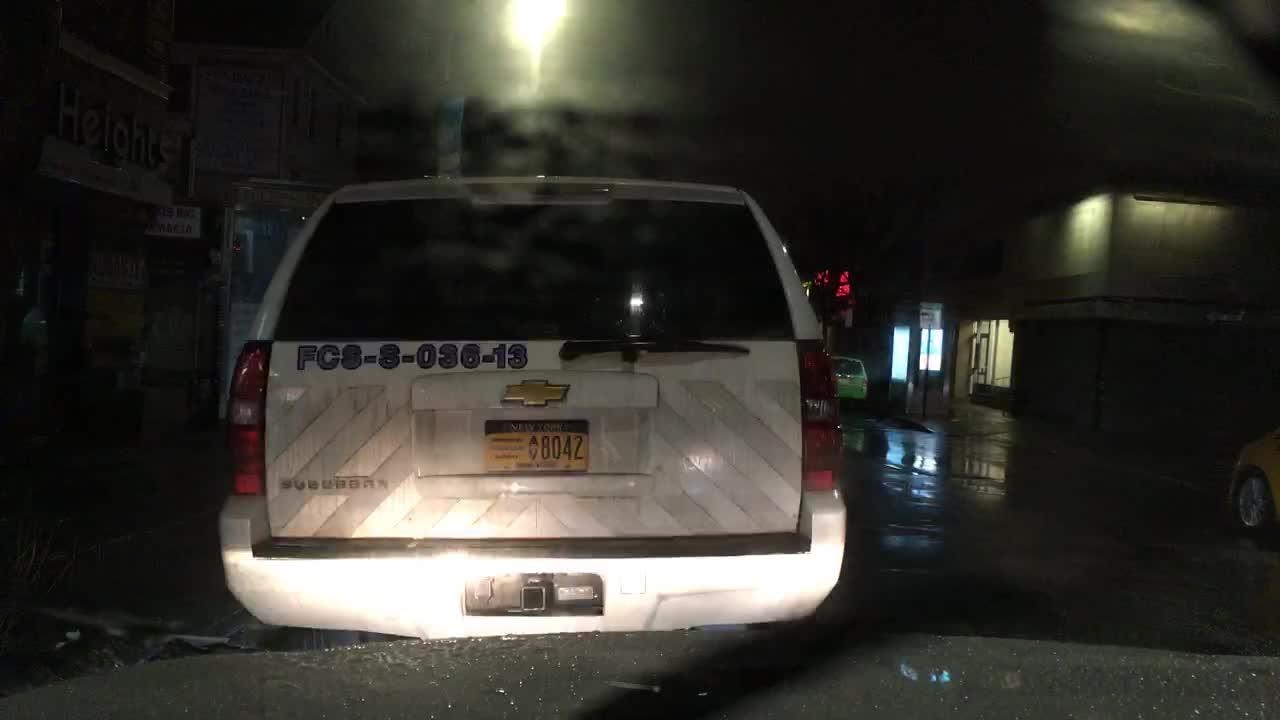chevrolet: (491, 368, 591, 425)
